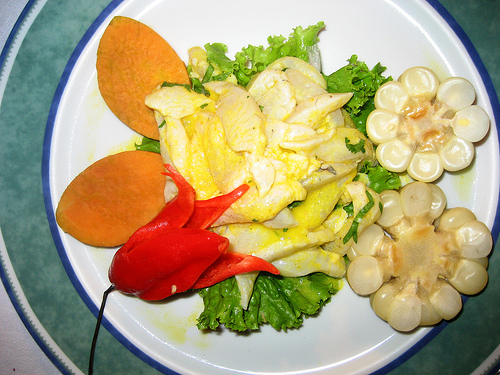corn: (347, 182, 492, 332), (367, 68, 490, 182)
